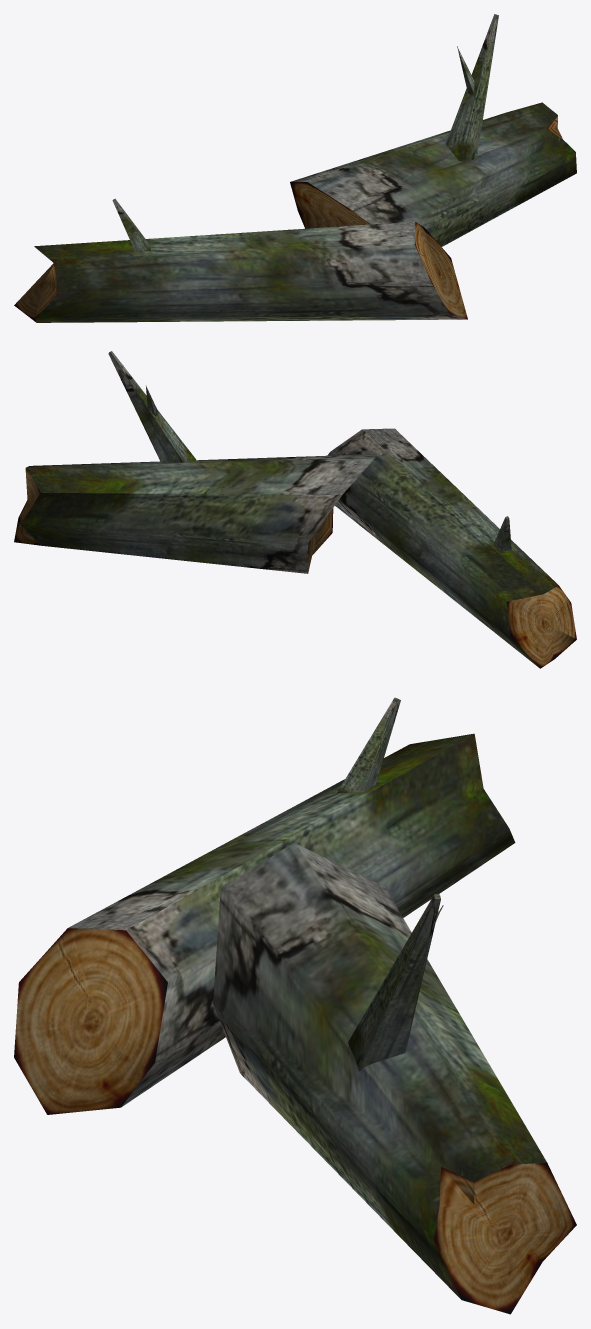
Rendered from pir_m_prp_dvj_logGroup_b.fbx.
3 renders of one model, top to bottom at view 1: azimuth 30°, elevation 25°; view 2: azimuth 150°, elevation 25°; view 3: azimuth 270°, elevation 25°, orthographic. The views are drawn at different scales.
Parts seen in each view (by area): view 1: log, log2; view 2: log2, log; view 3: log2, log.
Boxes of the visible parts, x1,y1,x2,y2 form: log: [14, 198, 467, 322]; log2: [290, 14, 576, 246]; log2: [14, 351, 375, 573]; log: [327, 428, 576, 668]; log2: [213, 842, 576, 1314]; log: [14, 697, 515, 1114].
Size of the model in its own units: 1171 by 412 by 579.
1 material, 1 textured.
